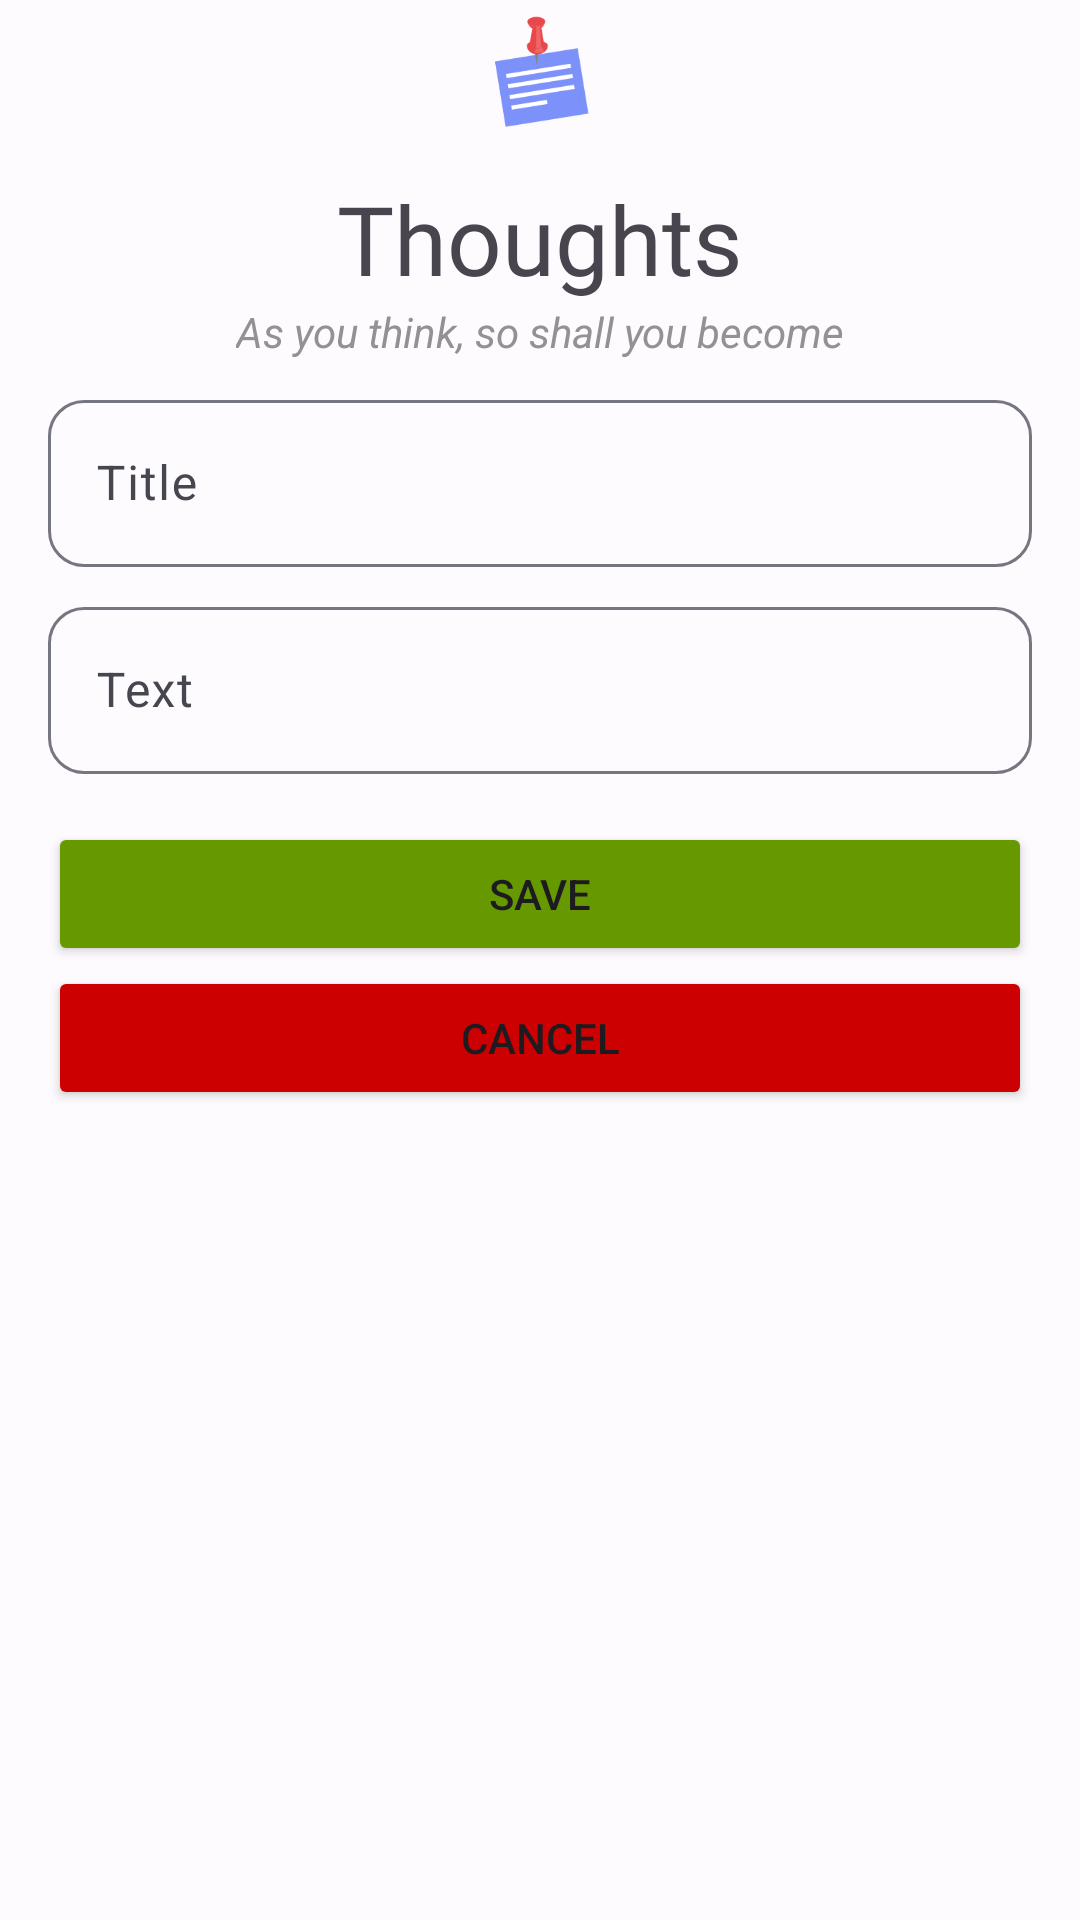

Screen size 1080x1920. Icon name, then its center in pixels as [x,y]:
note: [542,71]
